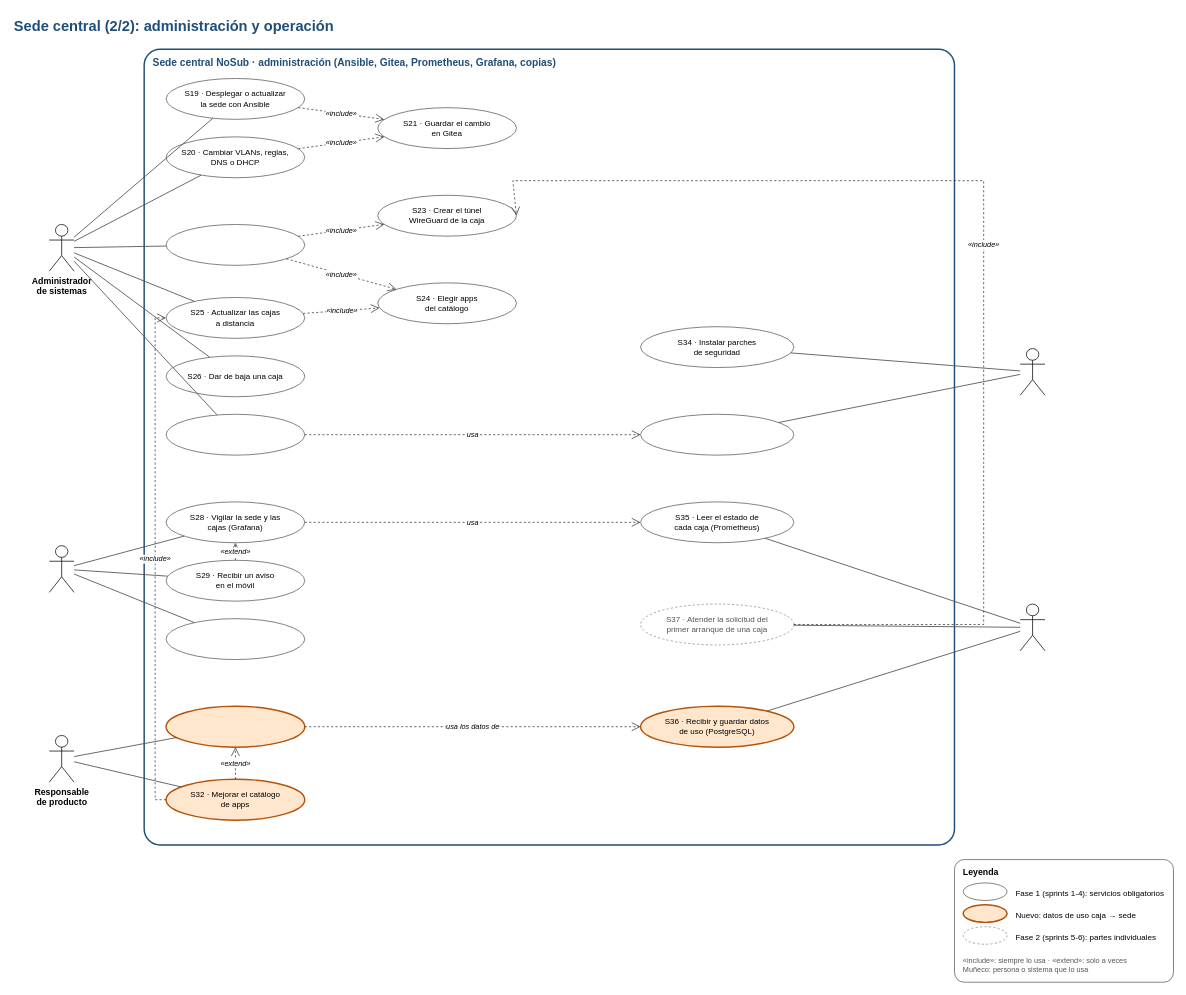
Some shapes in this 1186 by 995 pixel diagram are drawn without their labels. The centre of each missing label's shape, as x and y in pixels:
"Caja del cliente «sistema»" goes at point 1032,627.
"Reloj (tareas diarias)" goes at point 1032,371.
"S22 · Dar de alta una caja (pedido: nº de serie y apps)" goes at point 235,244.
"S27 · Restaurar una copia de seguridad" goes at point 235,434.
"S30 · Atender incidencias de clientes" goes at point 235,639.
"S31 · Analizar estadísticas de uso" goes at point 235,726.
"S33 · Hacer copias de seguridad (sede y cloud)" goes at point 717,434.
"Técnico de soporte" goes at point 61,568.
